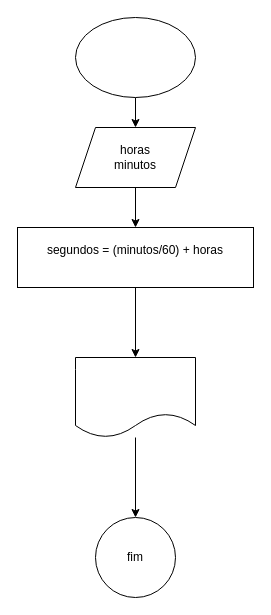
This 271x615 diagram has some shape labels left out. The box of each missing label's shape, as (x1, y1, x2, y2) in pixels:
segundos: (74, 356, 196, 438)
ínicio: (74, 16, 196, 98)
